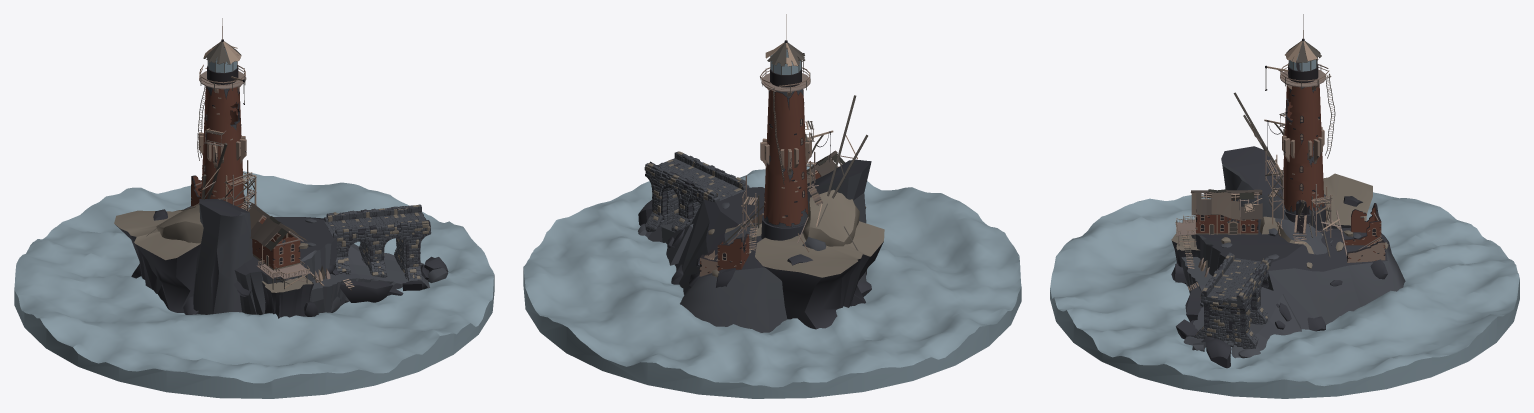
Rendered from detailed draft.fbx.
3 views of the same model, side by side, from view 1: azimuth 30°, elevation 25°; view 2: azimuth 150°, elevation 25°; view 3: azimuth 270°, elevation 25° (orthographic). The views are drawn at different scales.
Visible parts, largest first — view 1: water, Rock1, Lighthouse, Bridge_shell, House, Detail; view 2: water, Rock1, Lighthouse, Bridge_shell, Detail, broken_wall, House; view 3: water, Rock1, Lighthouse, Bridge_shell, House, Detail, broken_wall.
Boxes of the visible parts, bbox=[...] form: water: bbox=[14, 171, 494, 398]; Rock1: bbox=[114, 199, 448, 318]; Lighthouse: bbox=[197, 18, 249, 210]; Bridge_shell: bbox=[324, 204, 431, 281]; House: bbox=[248, 203, 324, 289]; Detail: bbox=[146, 143, 354, 290]; water: bbox=[523, 164, 1021, 398]; Rock1: bbox=[638, 151, 884, 332]; Lighthouse: bbox=[750, 14, 833, 240]; Bridge_shell: bbox=[644, 151, 749, 231]; Detail: bbox=[715, 95, 867, 256]; broken_wall: bbox=[699, 233, 749, 276]; House: bbox=[806, 150, 845, 183]; water: bbox=[1050, 192, 1519, 398]; Rock1: bbox=[1171, 146, 1405, 368]; Lighthouse: bbox=[1264, 14, 1335, 233]; Bridge_shell: bbox=[1194, 252, 1271, 348]; House: bbox=[1175, 189, 1262, 268]; Detail: bbox=[1188, 92, 1347, 290]; broken_wall: bbox=[1343, 203, 1385, 262].
Bounding box in the file's own units: 42.9 × 27.72 × 42.9.
